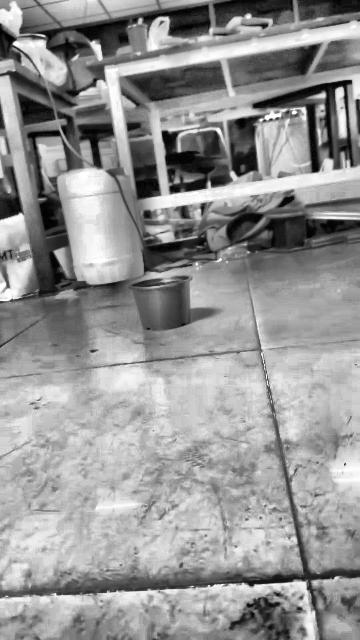pot: (128, 277, 191, 330)
